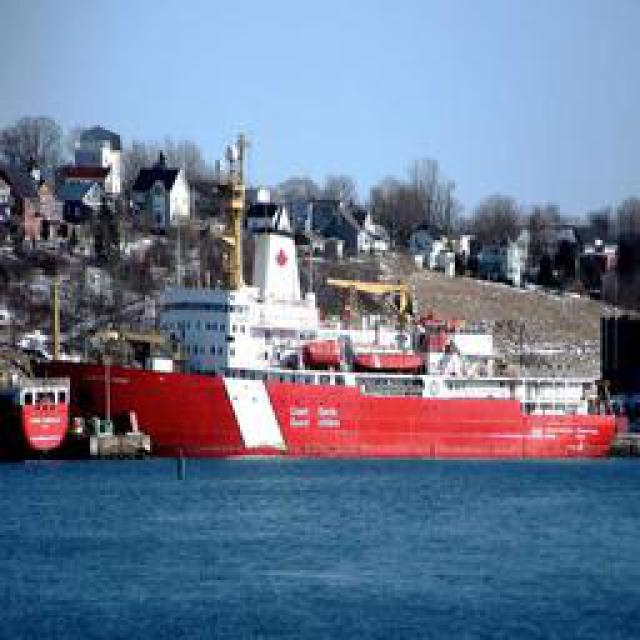Ship: (12, 328, 635, 466)
